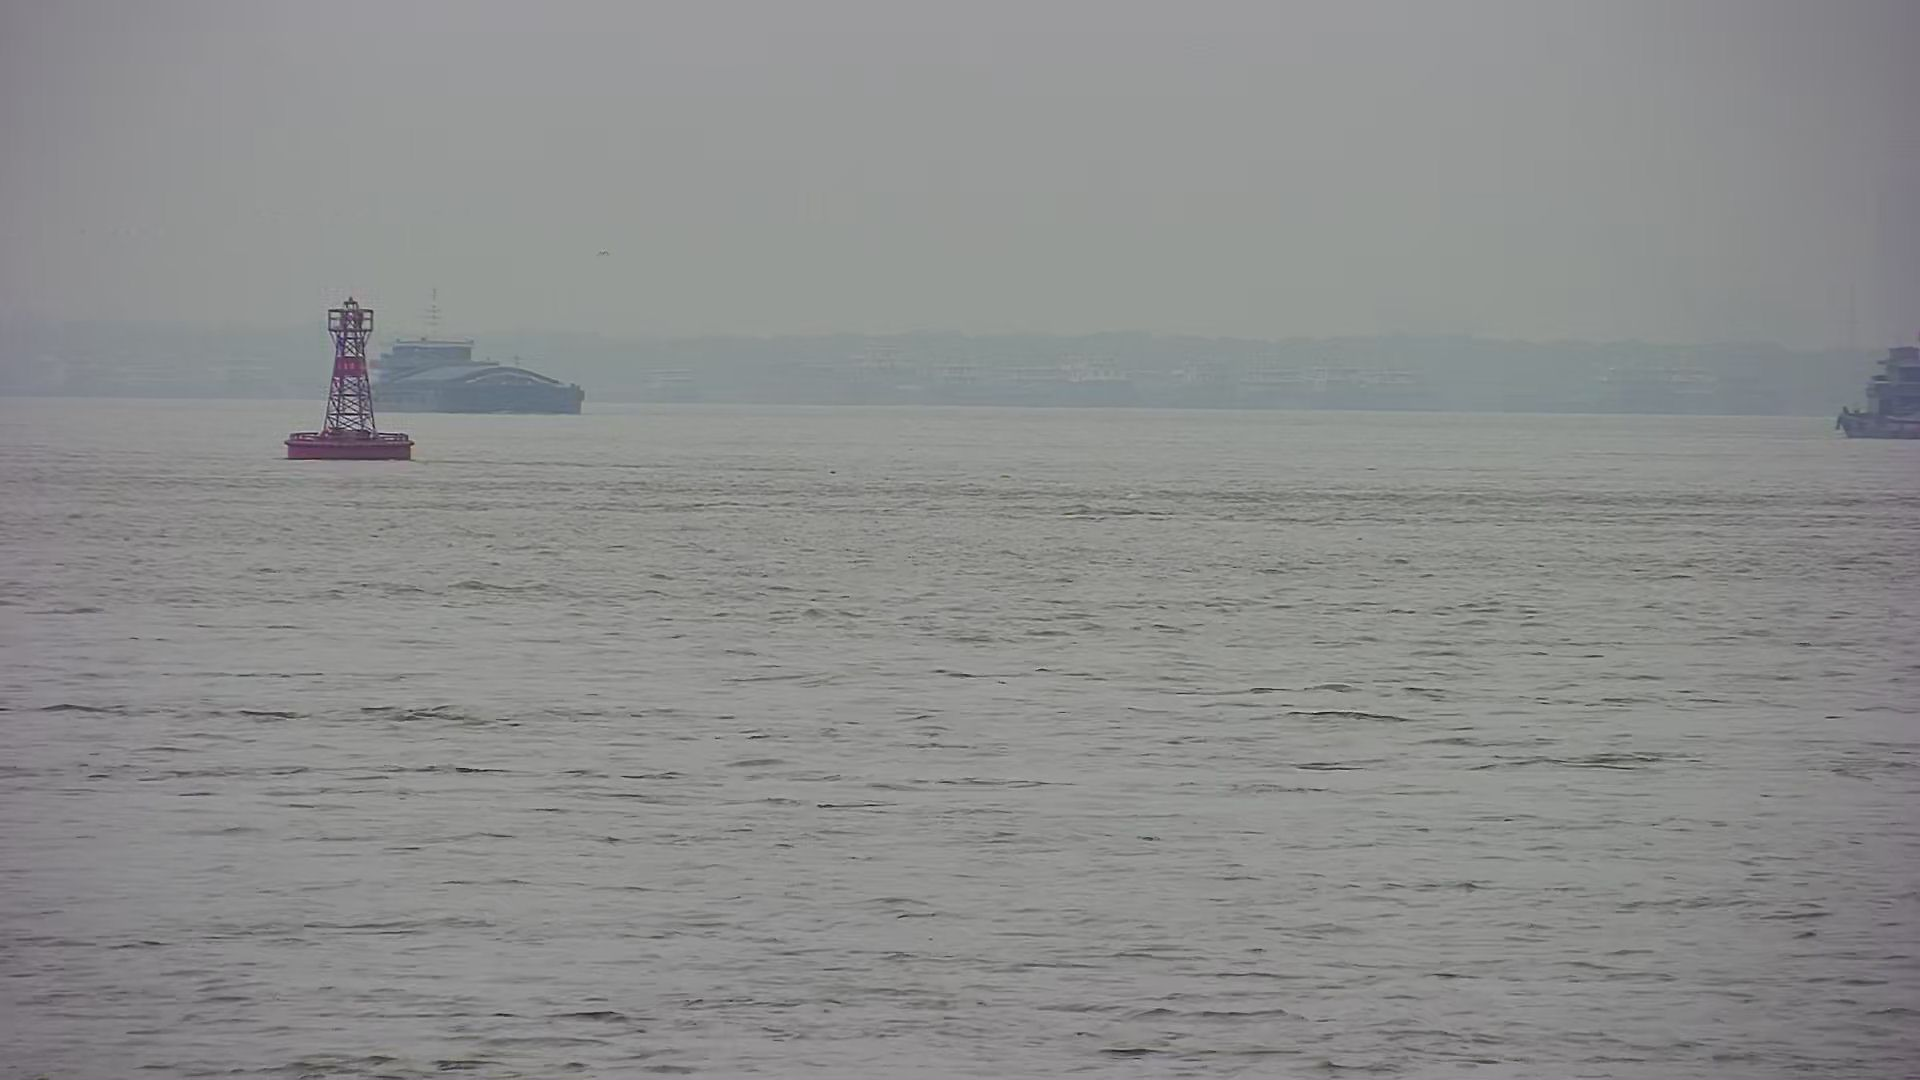buoy: (266, 270, 434, 469)
ship: (365, 280, 591, 425)
